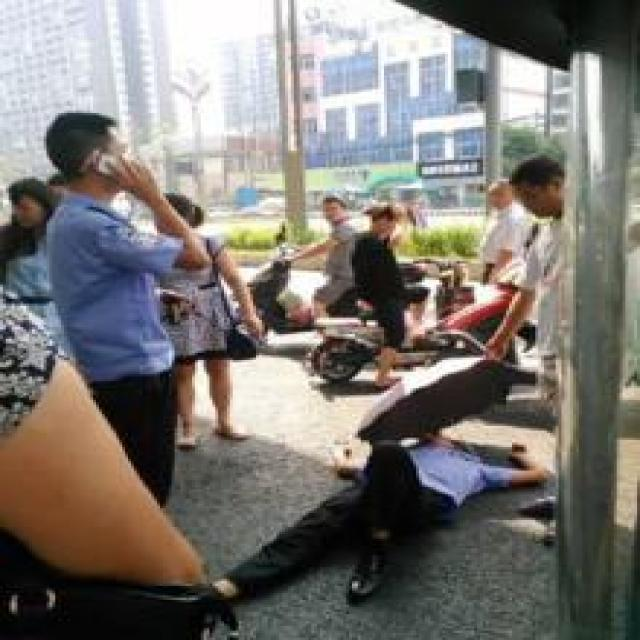fall: (227, 433, 541, 602)
